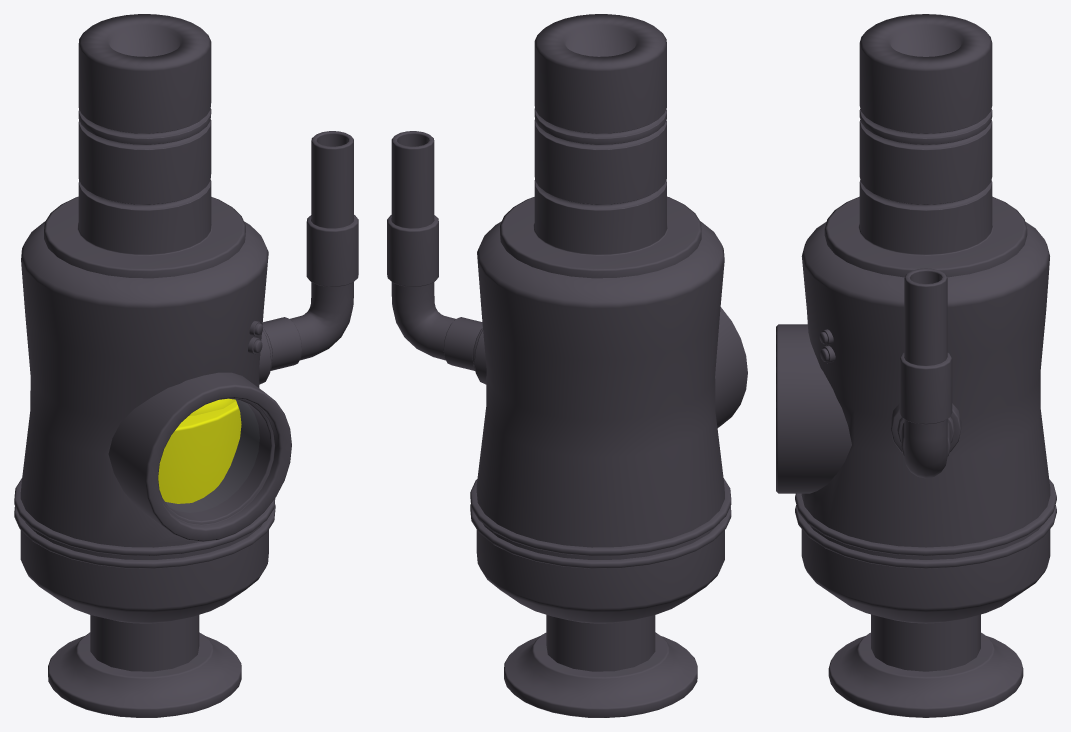
Rendered from hub_goo_spitter_machine.fbx.
3 renders of one model, left to right at view 1: azimuth 30°, elevation 25°; view 2: azimuth 150°, elevation 25°; view 3: azimuth 270°, elevation 25°, orthographic.
Visible parts, largest first — view 1: goo_chamber, goo_pipe, exhaust_pipe, spitter, goo, spitter_neck; view 2: goo_chamber, goo_pipe, exhaust_pipe, spitter, spitter_neck; view 3: goo_chamber, goo_pipe, spitter, exhaust_pipe, spitter_neck.
Part boxes in pixels (x1,y1,x2,y2): goo_chamber: (14, 221, 291, 623); goo_pipe: (44, 14, 245, 278); exhaust_pipe: (262, 131, 358, 370); spitter: (48, 632, 241, 717); goo: (158, 398, 241, 503); spitter_neck: (90, 615, 199, 671); goo_chamber: (470, 221, 747, 623); goo_pipe: (500, 14, 701, 278); exhaust_pipe: (387, 131, 482, 370); spitter: (504, 632, 697, 717); spitter_neck: (546, 615, 655, 671); goo_chamber: (776, 222, 1056, 623); goo_pipe: (824, 14, 1027, 277); spitter: (828, 632, 1023, 717); exhaust_pipe: (899, 268, 952, 478); spitter_neck: (871, 614, 980, 671).
Bounding box in the file's own units: 424 × 796 × 318.
